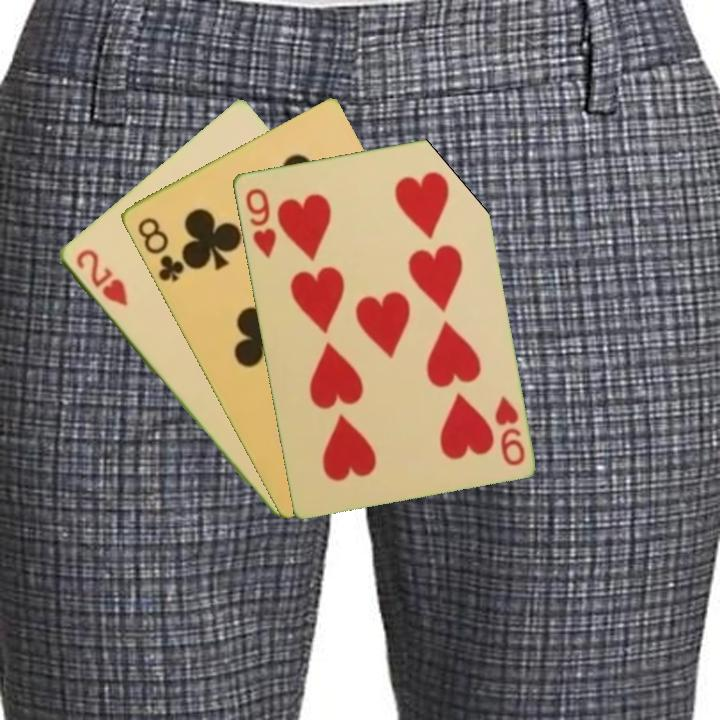2h: (71, 245, 131, 310)
8c: (133, 213, 187, 285)
9h: (241, 184, 279, 260), (490, 391, 527, 469)
